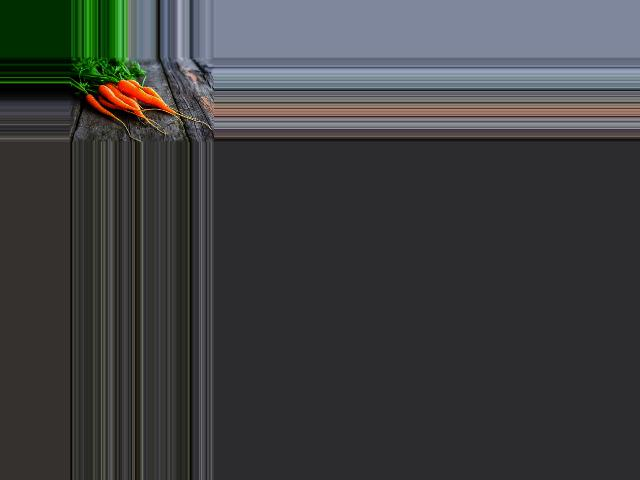carrot: (112, 78, 168, 110)
